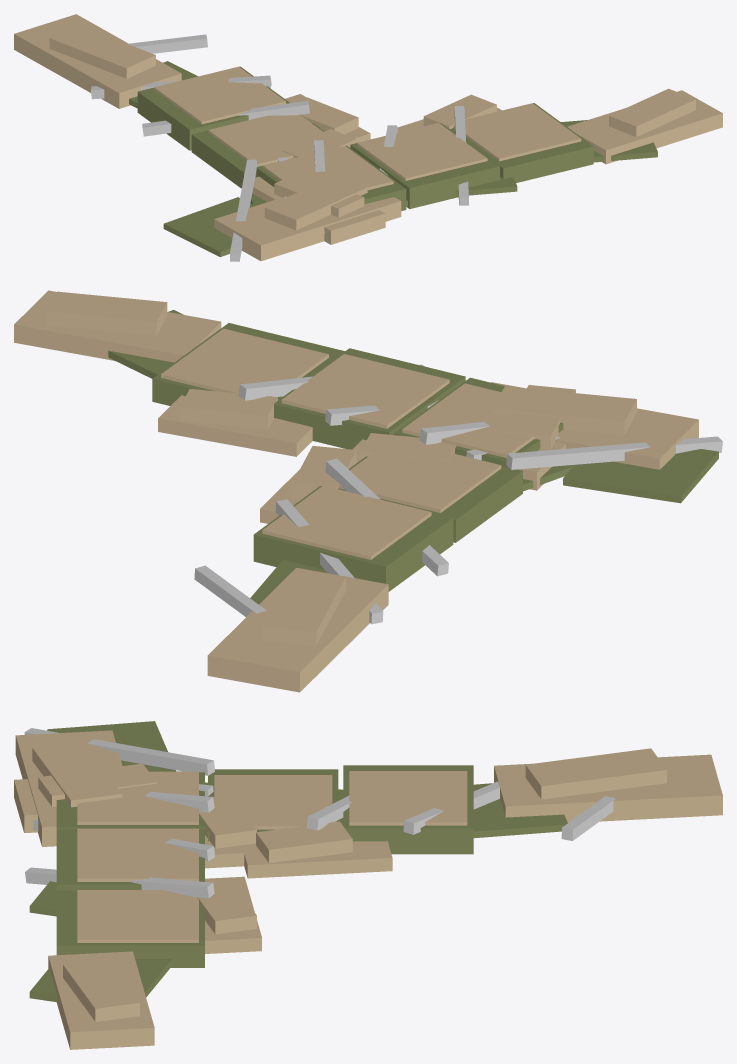
File: SM_HescoEsquina_v0_MallaLimpia_e3_Brecha_LOD1.fbx
3 views of the same model, one above another, from view 1: azimuth 30°, elevation 25°; view 2: azimuth 150°, elevation 25°; view 3: azimuth 270°, elevation 25° (orthographic). The views are drawn at different scales.
Parts seen in each view (by area): view 1: SM_hesco_piezas_v3_LOD1; view 2: SM_hesco_piezas_v3_LOD1; view 3: SM_hesco_piezas_v3_LOD1.
Boxes of the visible parts, x1,y1,x2,y2 form: SM_hesco_piezas_v3_LOD1: [14, 14, 722, 261]; SM_hesco_piezas_v3_LOD1: [14, 290, 722, 692]; SM_hesco_piezas_v3_LOD1: [14, 721, 722, 1049].
Bounding box in the file's own units: 6.23 × 0.351 × 5.83.
